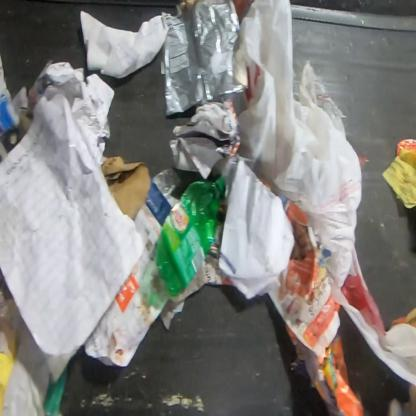cardboard: (100, 156, 148, 222)
metal: (395, 138, 415, 157)
rigid_plastic: (154, 175, 226, 299), (131, 166, 183, 259)
soft_plastic: (212, 0, 416, 390), (163, 0, 249, 118)
